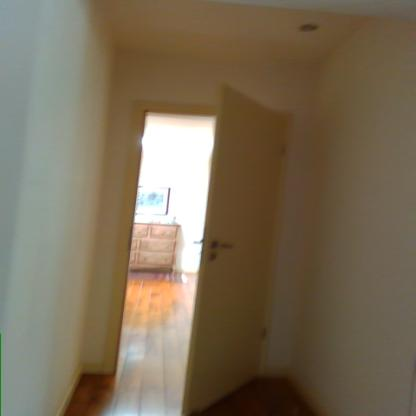semi: (93, 83, 291, 406)
